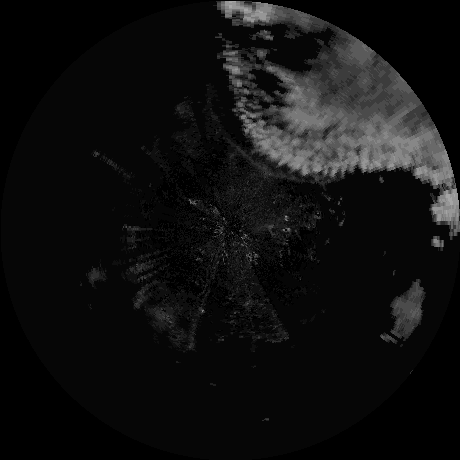frontgust: (233, 142, 310, 182)
